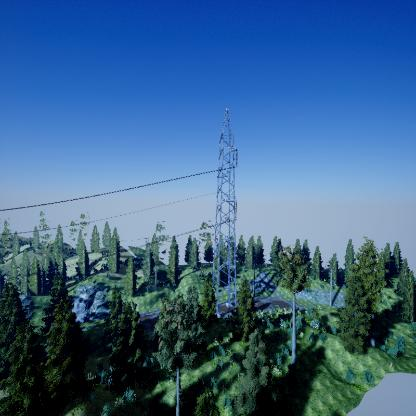tower: (212, 103, 240, 315)
